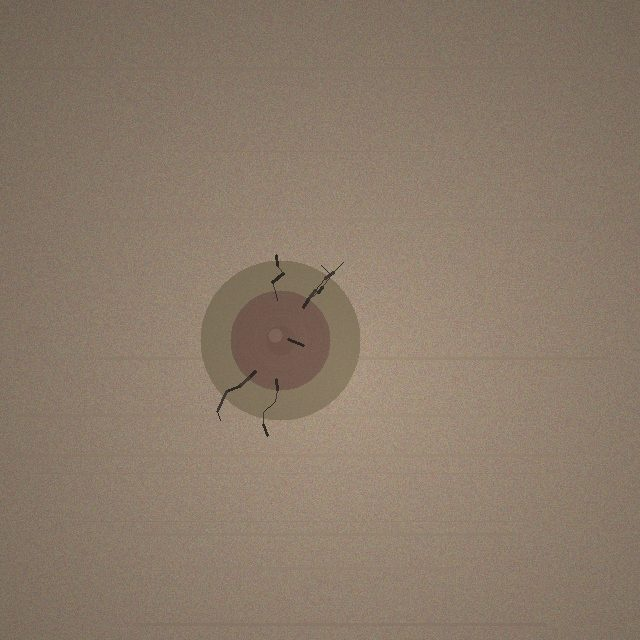crack: (200, 260, 360, 420)
